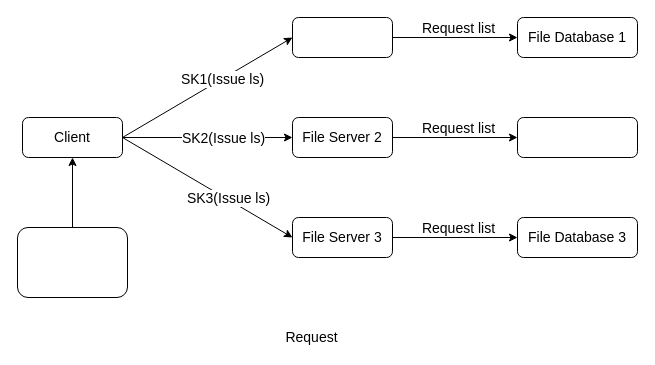
The diagram is 655 pixels wide and 365 high, and some of its shapes have lost their labels. Here are the shapes that lost their labels. From the top down, the centre of each, then its label:
(x=342, y=37): File Server 1
(x=577, y=137): File Database 2
(x=72, y=262): List of Registered File Server
